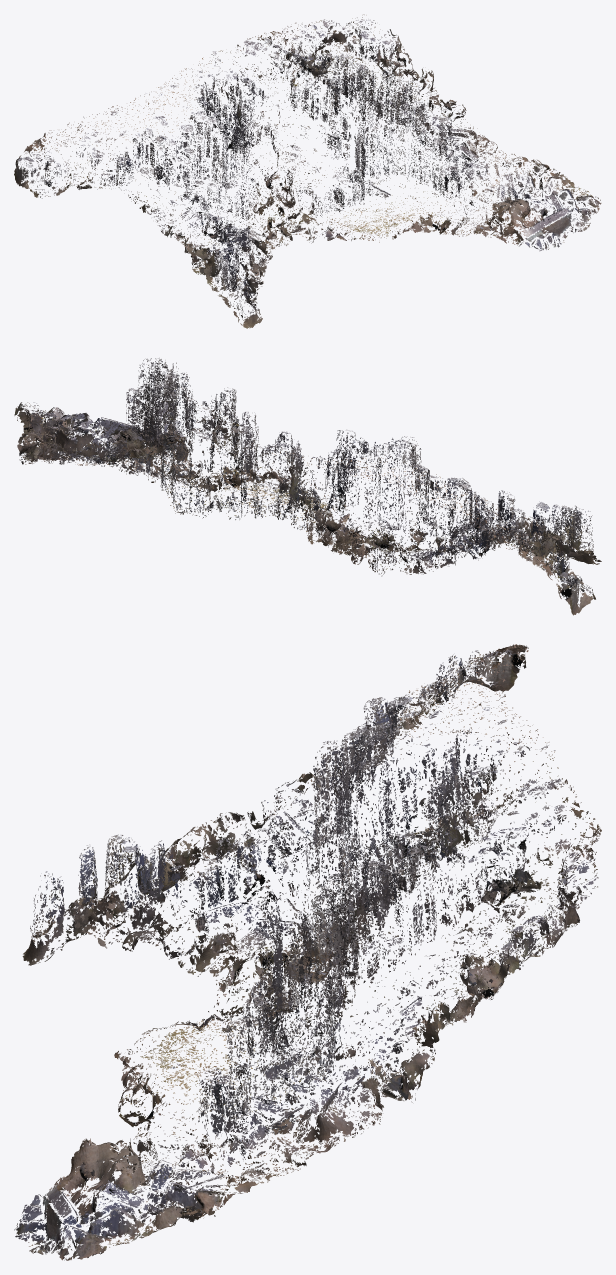
File: cliffs.glb
The picture shows the model from 3 angles, top to bottom: view 1: azimuth 30°, elevation 25°; view 2: azimuth 150°, elevation 25°; view 3: azimuth 270°, elevation 25°; orthographic projection. The views are drawn at different scales.
Parts seen in each view (by area): view 1: SM_MDS_Entire_M_MDS_Entire_0; view 2: SM_MDS_Entire_M_MDS_Entire_0; view 3: SM_MDS_Entire_M_MDS_Entire_0.
Boxes of the visible parts, left/top/right/bottom form: SM_MDS_Entire_M_MDS_Entire_0: left=14, top=14, right=601, bottom=328; SM_MDS_Entire_M_MDS_Entire_0: left=14, top=357, right=601, bottom=615; SM_MDS_Entire_M_MDS_Entire_0: left=14, top=644, right=601, bottom=1260.
Bounding box in the file's own units: 97.33 × 30.14 × 52.49.
1 material, 1 textured.
